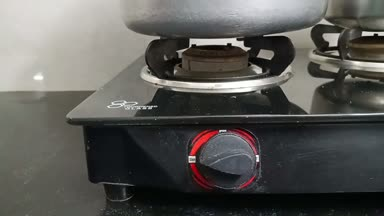noflame_gason: (127, 27, 314, 196)
